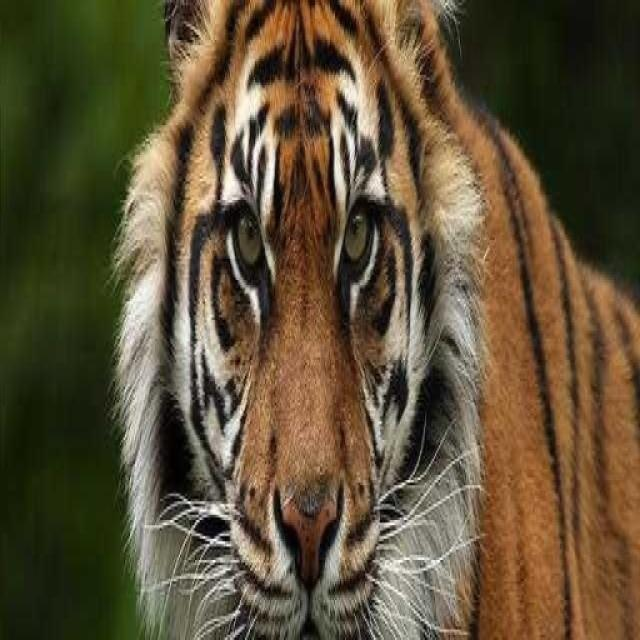tiger: (104, 0, 639, 639)
